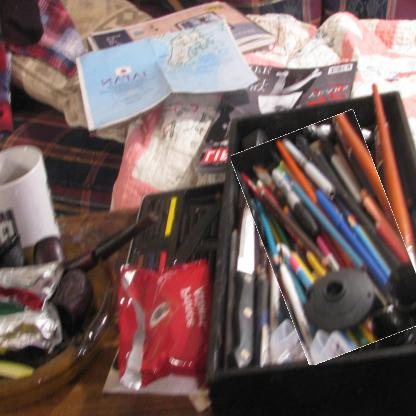Pen: (248, 117, 415, 359)
